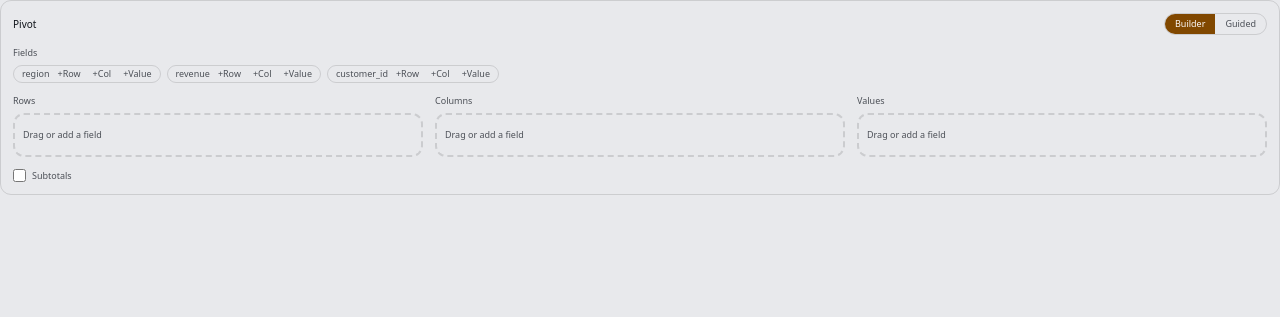
it: PivotBuilder › picking a sort field and toggling direction updates the ORDER BY clause
The image size is (1280, 317).
Click the button titled "Add region to rows" next to "region": (69, 74) [54,68,85,80]
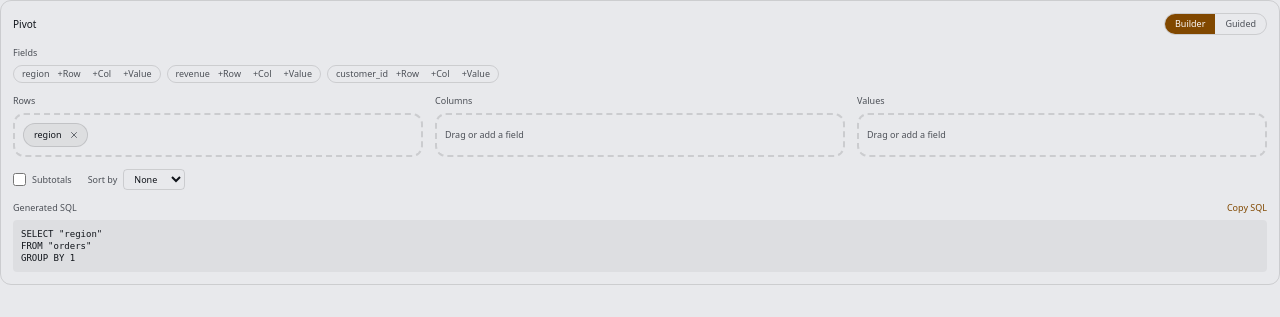
Click the button titled "Add revenue to values" in the row of "revenue": (298, 74) [280,68,316,80]
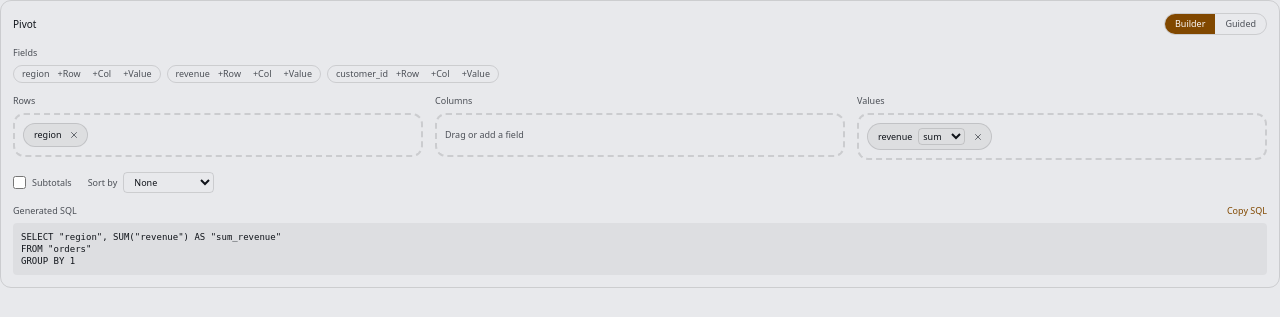
Check: the text "SELECT" shows "sum_revenue", box [21,232,281,266]
Select "sum_revenue" in the dropdown labelled "Sort by": (169, 182) [123,172,214,193]
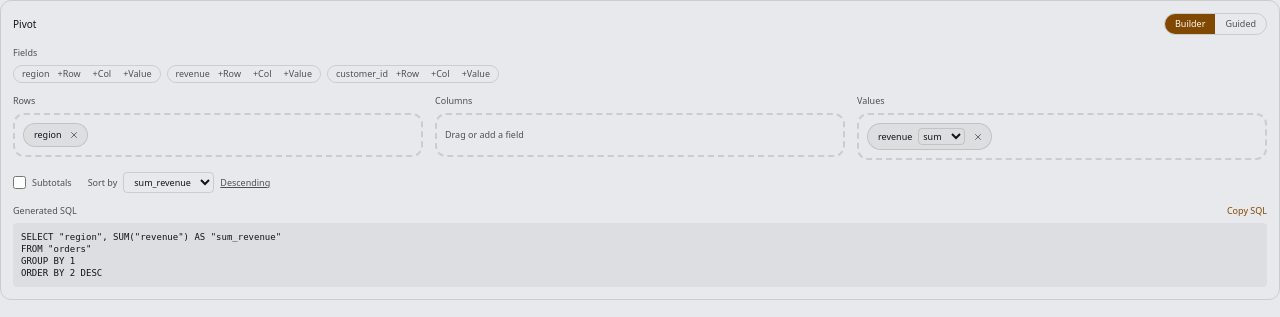
Check: the text "SELECT" shows "ORDER BY 2 DESC", box [21,232,281,278]
Click the button "Descending": (245, 182) [220,176,270,188]
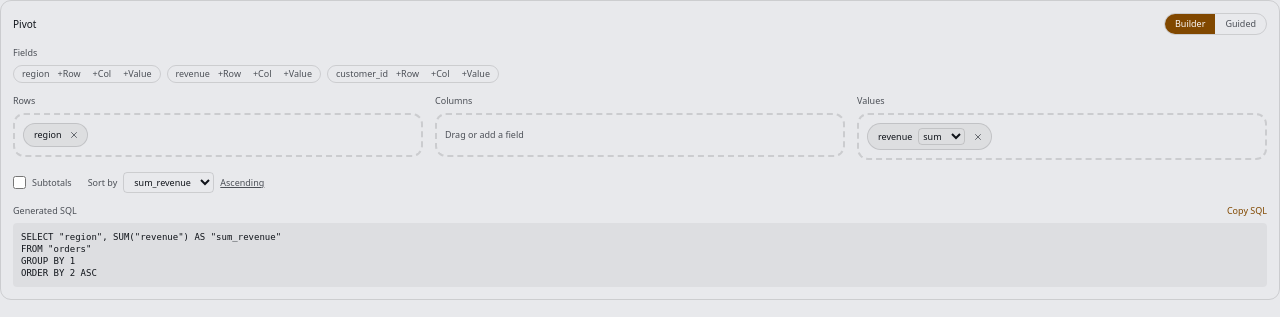
Check: the text "SELECT" shows "ORDER BY 2 ASC", box [21,232,281,278]
